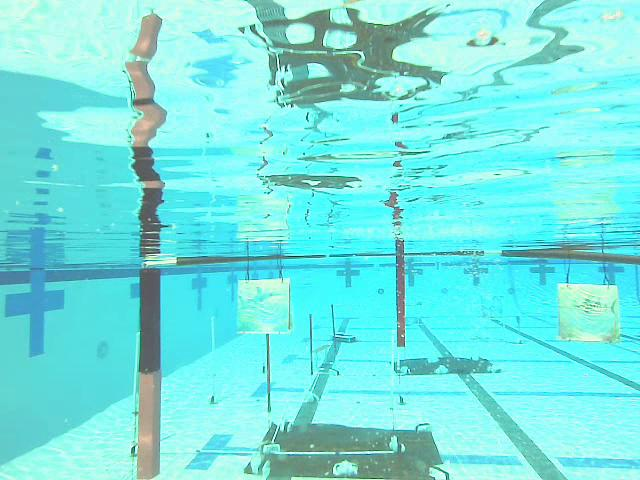left_gate_poster: (134, 264, 169, 480)
shark: (232, 275, 292, 335)
swordfish: (551, 280, 625, 343)
